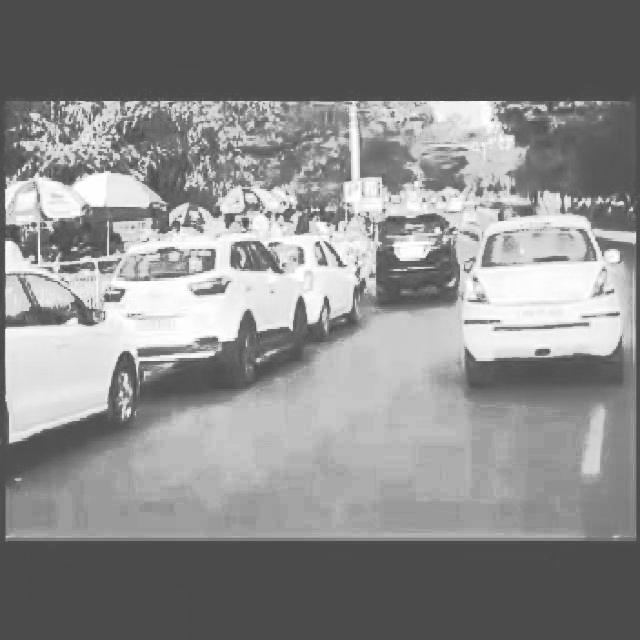Car: (464, 222, 613, 402), (126, 222, 286, 386), (2, 247, 114, 481), (369, 209, 460, 325), (300, 225, 364, 351)
